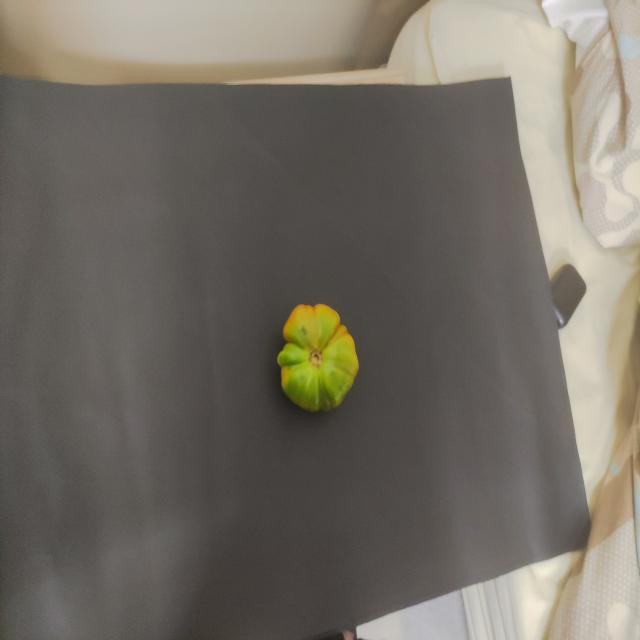unripe tomato: (273, 284, 364, 422)
